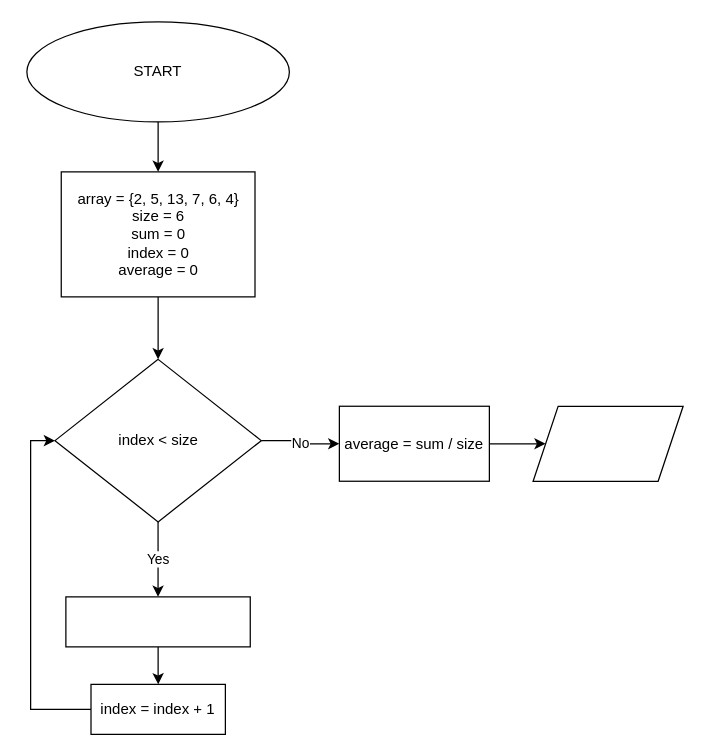
Some shapes in this 705 by 756 pixel diagram are drawn without their labels. The centre of each missing label's shape, as x and y in pixels:
"print(average)" belongs at point 607,443.
"sum = sum + array[index]" belongs at point 157,621.
